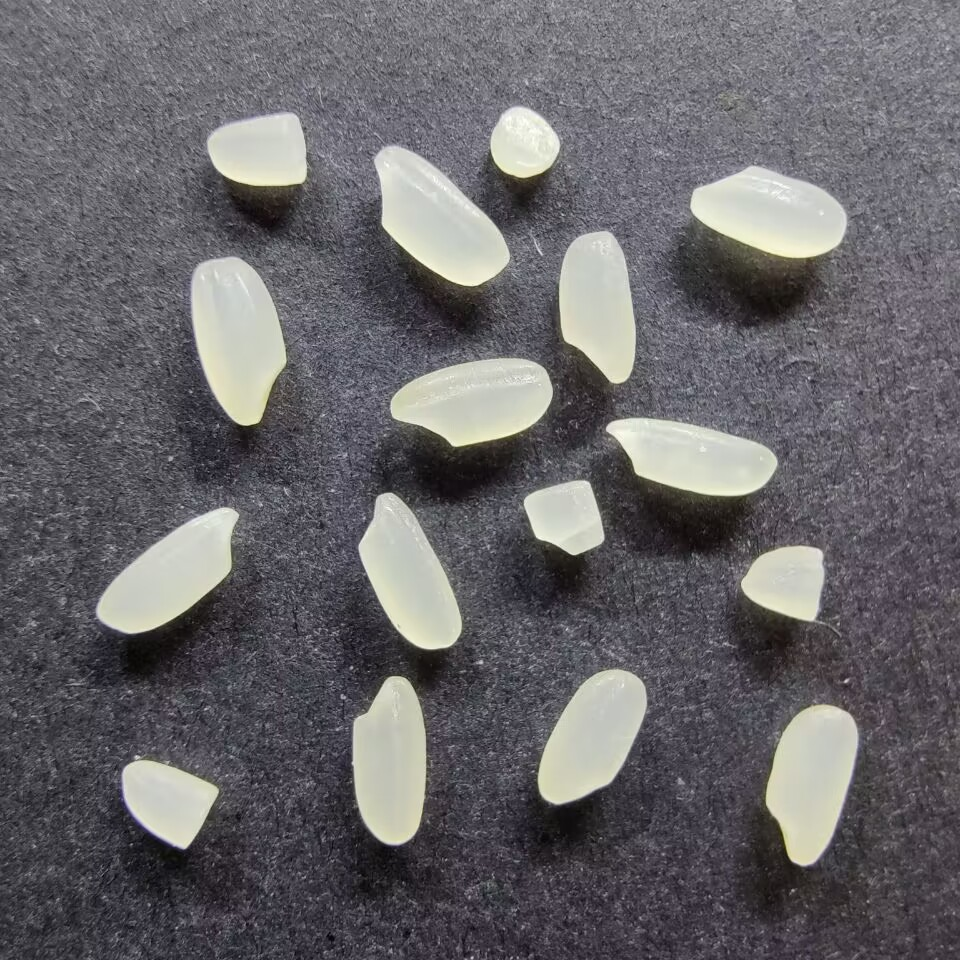broken: (118, 757, 223, 852), (203, 111, 310, 188), (739, 544, 828, 623), (520, 478, 608, 557), (489, 102, 566, 180)
rice: (370, 143, 512, 288), (92, 504, 241, 636), (354, 491, 464, 650), (188, 256, 288, 428), (762, 702, 860, 868), (687, 164, 848, 260), (387, 355, 551, 448), (537, 668, 647, 805), (602, 414, 779, 499), (348, 674, 429, 849), (555, 229, 639, 385)
